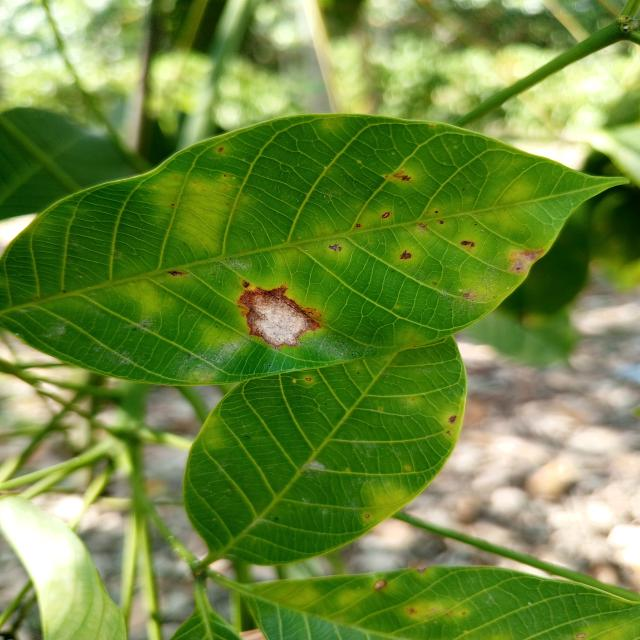Colletotrichum: (382, 212, 390, 219), (305, 377, 312, 382), (364, 514, 370, 518), (439, 220, 444, 224), (434, 210, 438, 214), (356, 224, 361, 227), (407, 466, 410, 469)
Leaf-Blight: (237, 285, 321, 347)
